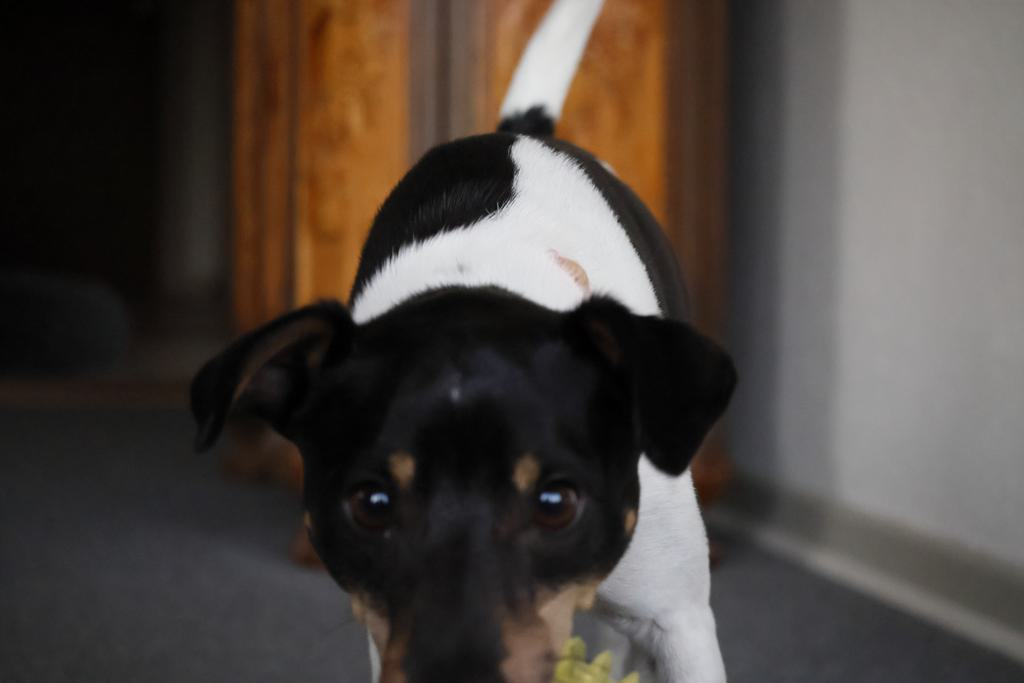Dog: (163, 0, 787, 683)
